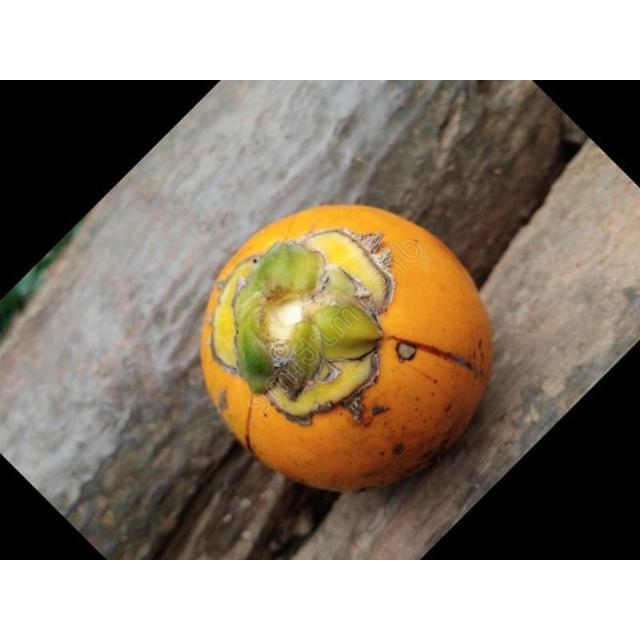good: (198, 205, 494, 495)
